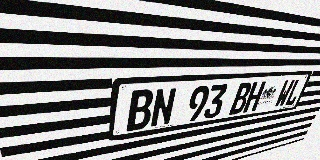3: (203, 84, 228, 119)
9: (185, 85, 211, 122)
B: (126, 89, 155, 132), (229, 82, 253, 115)
H: (243, 81, 266, 113)
L: (284, 79, 305, 106)
N: (150, 87, 177, 128)
W: (273, 79, 295, 108)
